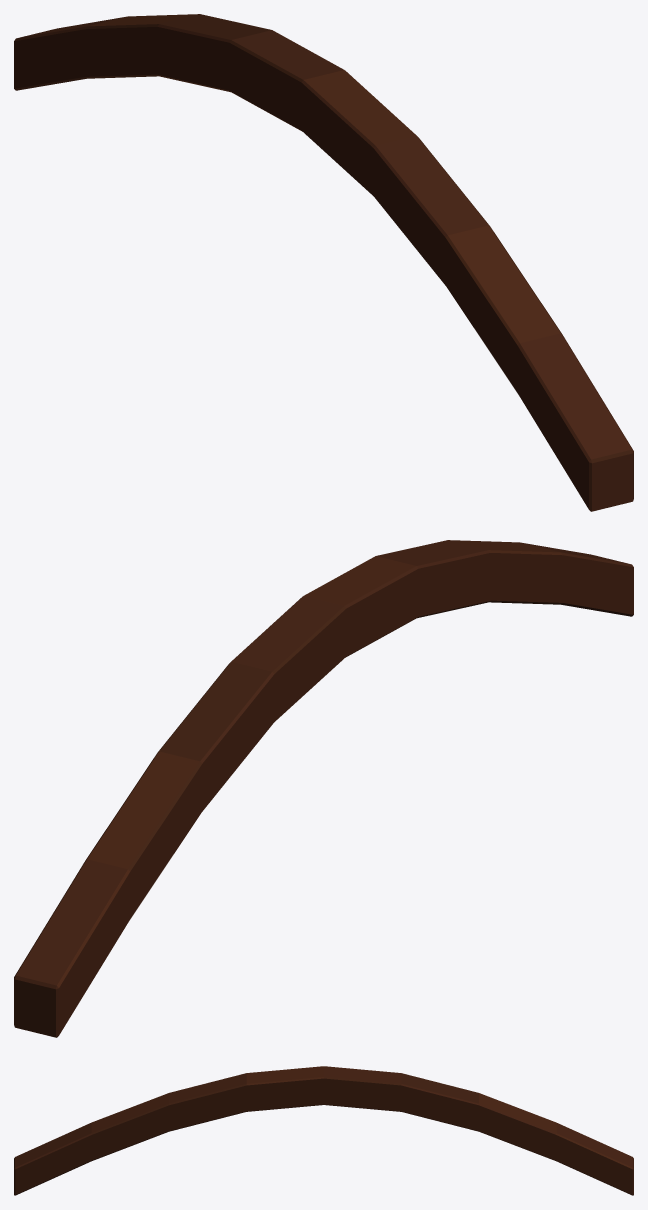
The model's file is D35_Bridge_Arch_Beam_4m.fbx.
The picture shows the model from 3 angles, top to bottom: view 1: azimuth 30°, elevation 25°; view 2: azimuth 150°, elevation 25°; view 3: azimuth 270°, elevation 25°; orthographic projection. The views are drawn at different scales.
Visible parts, largest first — view 1: D35_Bridge_Arch_Beam_4m; view 2: D35_Bridge_Arch_Beam_4m; view 3: D35_Bridge_Arch_Beam_4m.
Boxes of the visible parts, bbox=[...] form: D35_Bridge_Arch_Beam_4m: bbox=[14, 14, 633, 511]; D35_Bridge_Arch_Beam_4m: bbox=[14, 540, 633, 1037]; D35_Bridge_Arch_Beam_4m: bbox=[14, 1066, 633, 1195].
Size of the model in its own units: 0.18 by 0.8464 by 4.
1 material, 1 textured.
